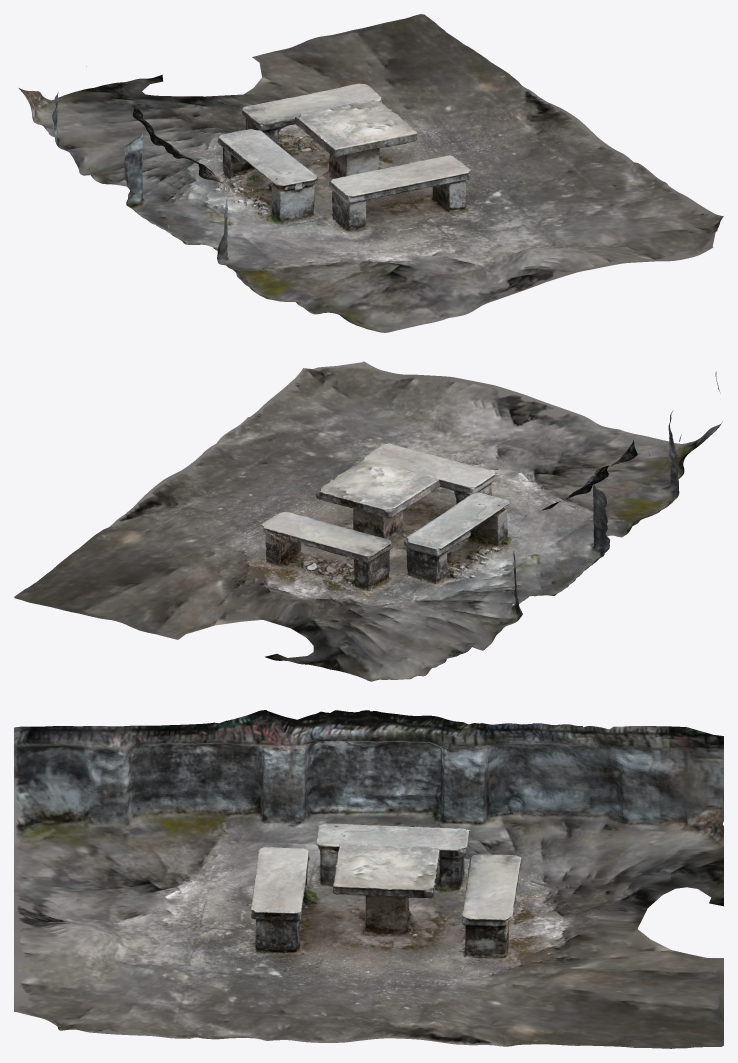
3 views of the same model, one above another, from view 1: azimuth 30°, elevation 25°; view 2: azimuth 150°, elevation 25°; view 3: azimuth 270°, elevation 25° (orthographic). The views are drawn at different scales.
Bounding box in the file's own units: 6.83 × 1.58 × 8.9.
Materials: 1 (1 with a texture image).
